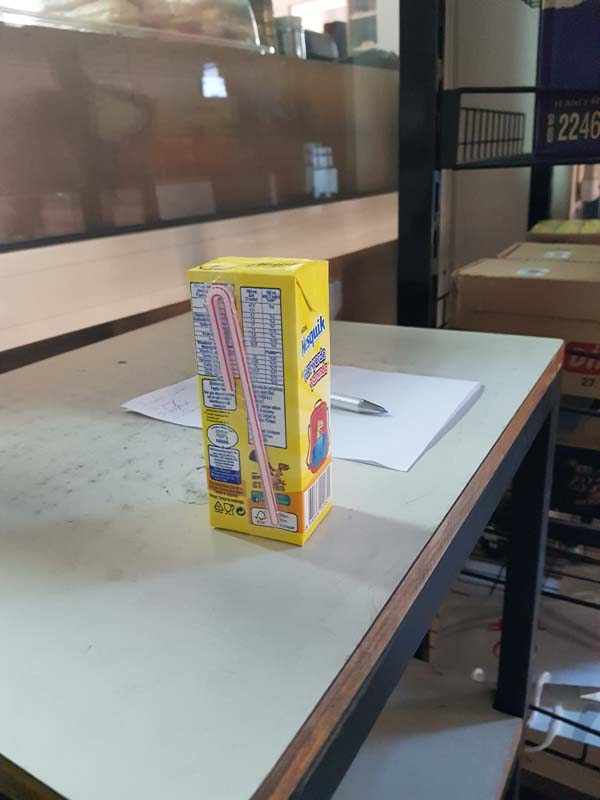nesquick200ml: (190, 251, 333, 546)
